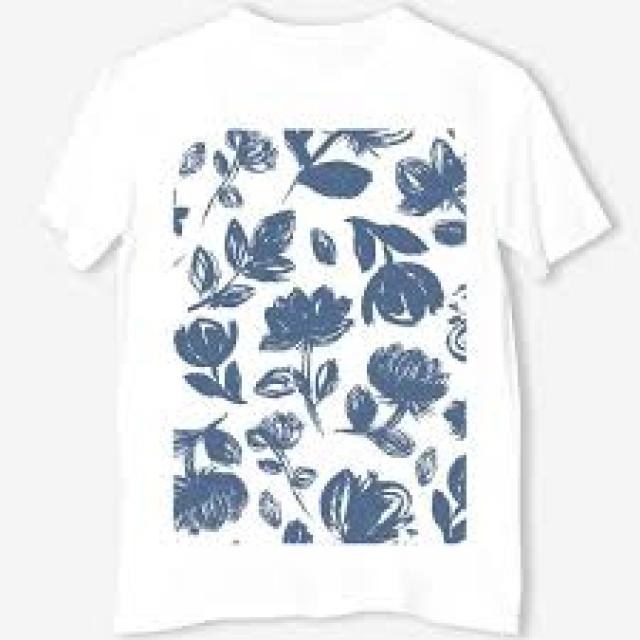Shirt: (45, 22, 612, 640)
